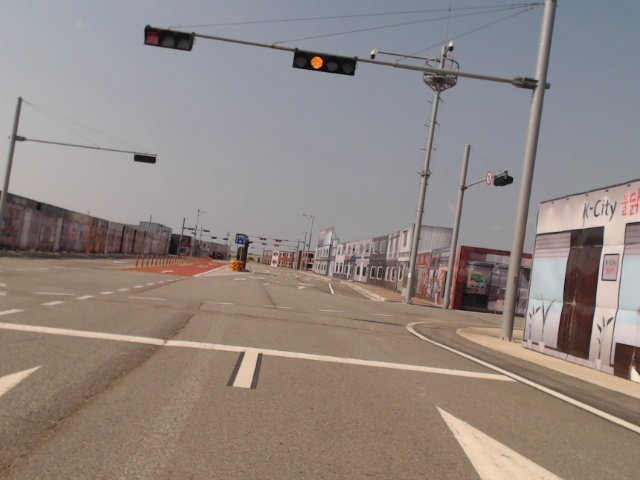orange_4: (292, 49, 357, 78)
